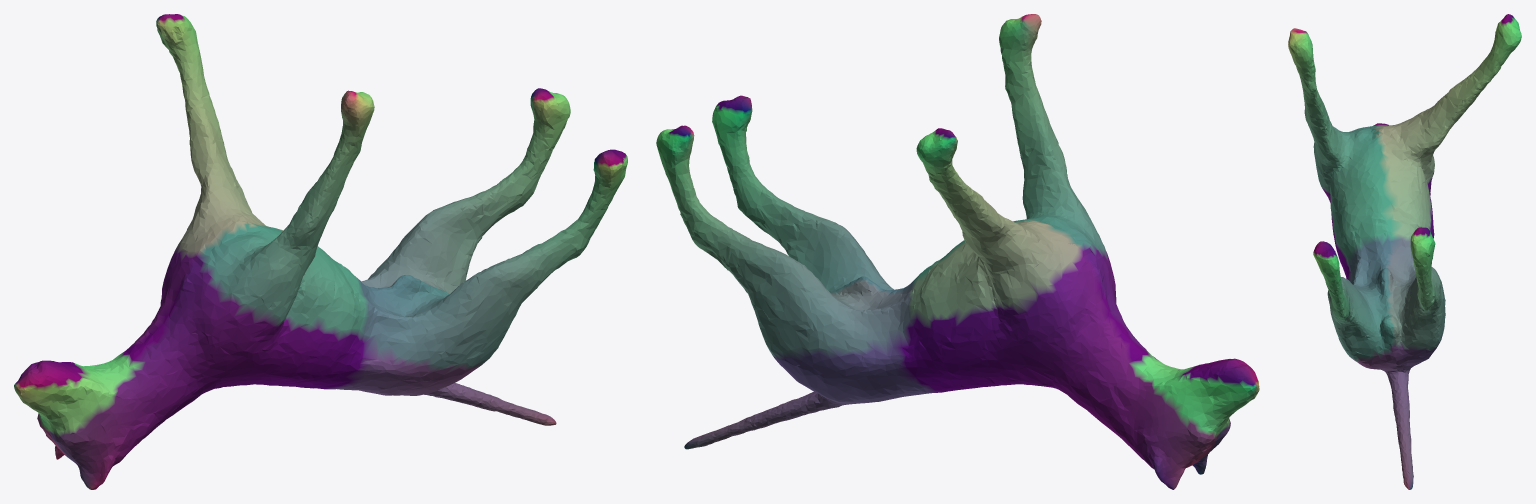
Rendered from dog2-16.off.obj.
3 renders of one model, left to right at view 1: azimuth 30°, elevation 25°; view 2: azimuth 150°, elevation 25°; view 3: azimuth 270°, elevation 25°, orthographic. The views are drawn at different scales.
Bounding box in the file's own units: 1.56 × 1.16 × 0.6926.
